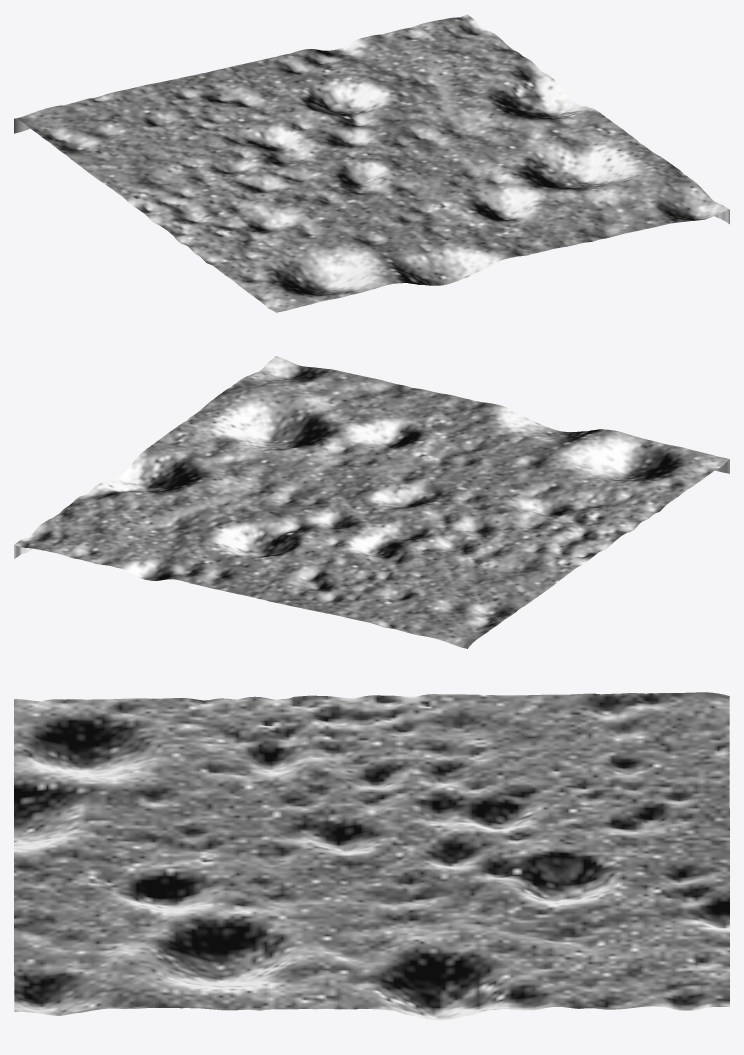
The picture shows the model from 3 angles, top to bottom: view 1: azimuth 30°, elevation 25°; view 2: azimuth 150°, elevation 25°; view 3: azimuth 270°, elevation 25°; orthographic projection. The views are drawn at different scales.
Bounding box in the file's own units: 2555 × 182 × 2557.
1 material, 1 textured.
